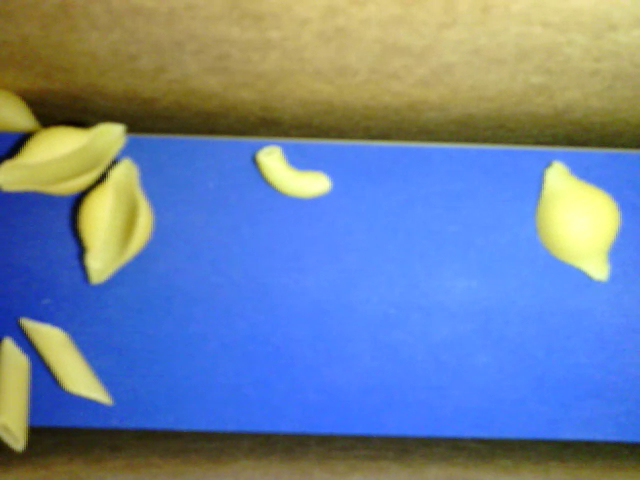elbow: (256, 143, 331, 198)
penne: (18, 315, 113, 406), (1, 336, 32, 453)
shell: (77, 157, 154, 284), (536, 159, 617, 279), (1, 120, 126, 196)
